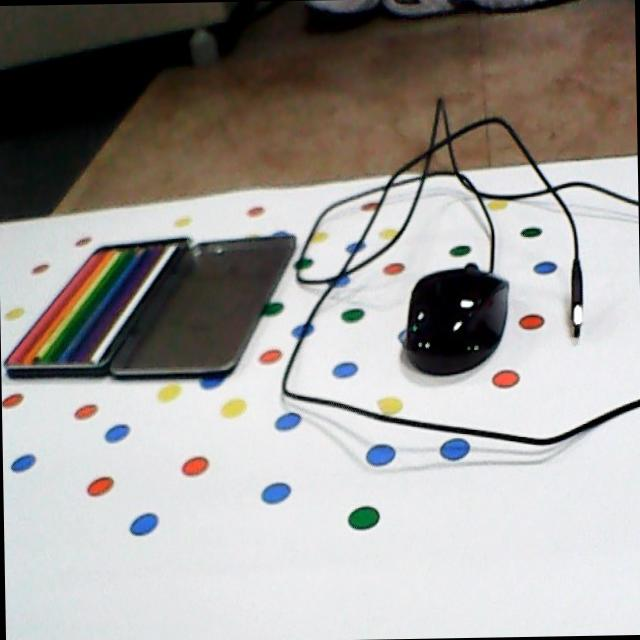color: (2, 232, 198, 384)
mouse: (399, 258, 511, 382)
